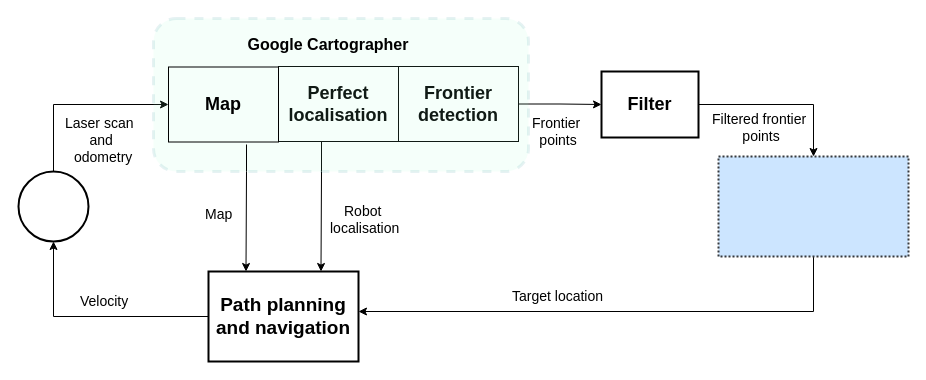
Image size: 926x380. Some labels were removed from this diagram. The shapes that lost their labels are listed below. From the top down, each one's centre as x and y in pixels, then its label:
the point at 53,206: ROBOT
the point at 813,206: Decentralised strategy based on market model
